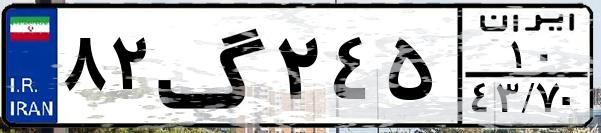0: (560, 70, 590, 125), (537, 27, 568, 80)
1: (508, 27, 537, 80)
2: (270, 28, 330, 110), (110, 28, 156, 98)
3: (495, 70, 520, 125)
4: (330, 28, 385, 110), (470, 70, 495, 125)
5: (385, 28, 445, 110)
7: (535, 70, 560, 125)
8: (57, 26, 110, 100)
گ: (156, 12, 270, 120)
